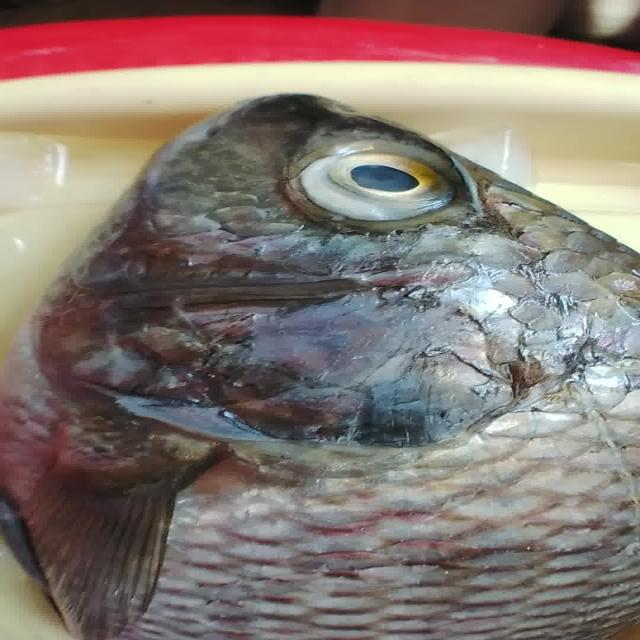Fresh: (61, 384, 640, 640), (306, 146, 486, 230)
